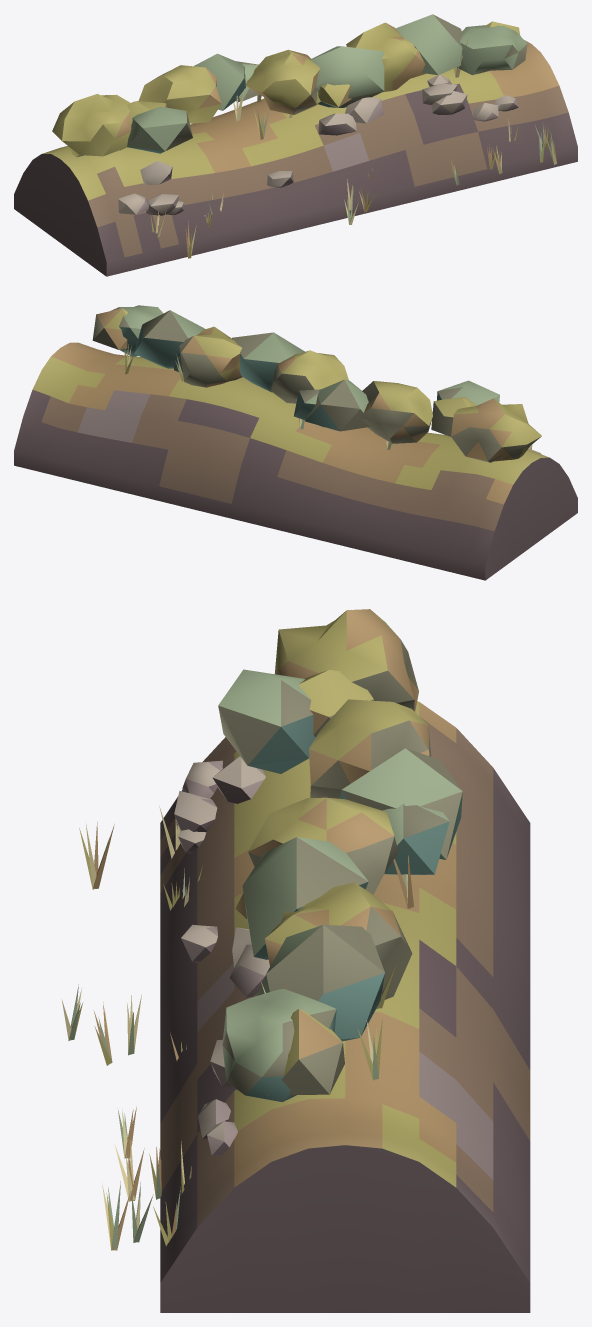
Rendered from hedgerow_segments_v1.glb.
The picture shows the model from 3 angles, top to bottom: view 1: azimuth 30°, elevation 25°; view 2: azimuth 150°, elevation 25°; view 3: azimuth 270°, elevation 25°; orthographic projection. The views are drawn at different scales.
Parts seen in each view (by area): view 1: Body; view 2: Body; view 3: Body.
Part boxes in pixels (<box>): Body: <box>14,14,577,276</box>; Body: <box>14,305,577,580</box>; Body: <box>61,609,530,1312</box>.
Size of the model in its own units: 1.01 by 0.2901 by 0.4305.
